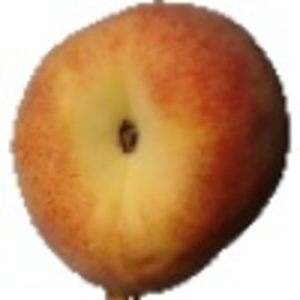pêssego: (10, 1, 291, 300)
